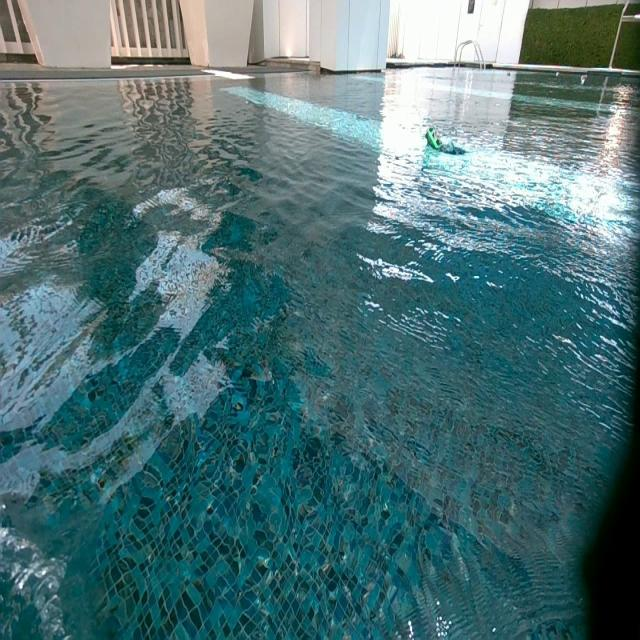Cans: (425, 128, 441, 150), (578, 75, 586, 84), (505, 72, 513, 79), (556, 72, 562, 78)
